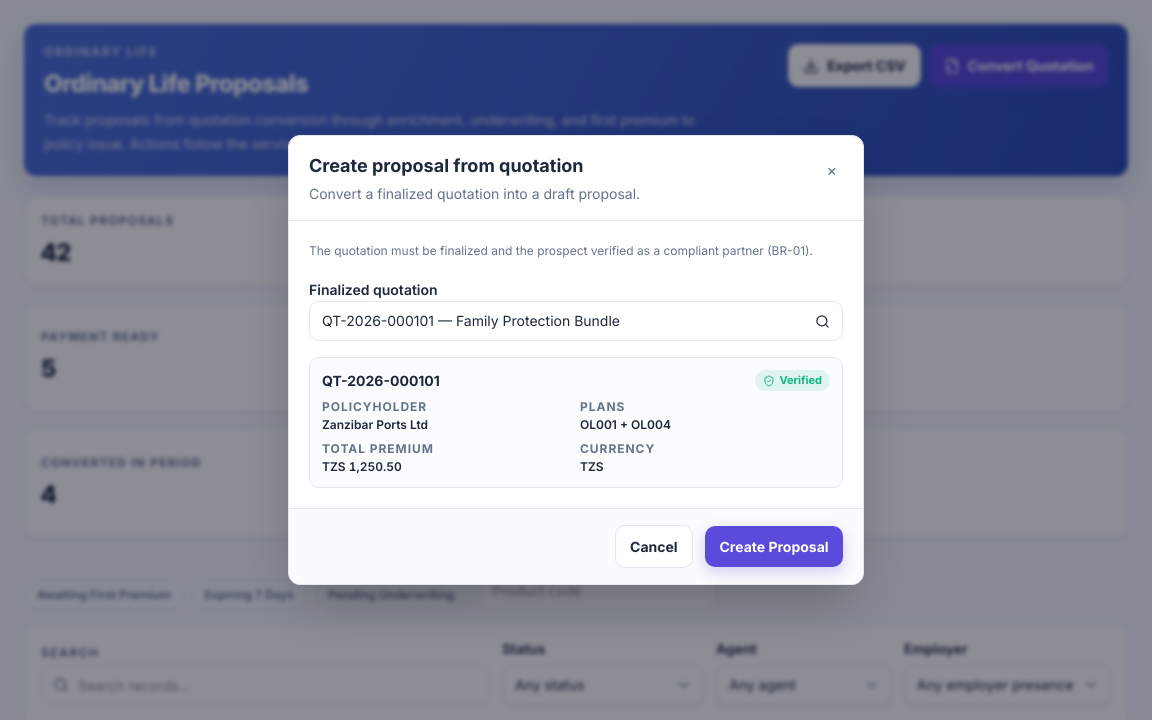
Test case: Convert quotation modal › renders the BR-01 coach with a deep link to the quotation partner verification
Earlier steps of the test are not shown.
Later steps or results of the test are not shown.
Click the button with test id "convert-quotation-submit".
click(774, 546)  # box 705,526 -> 843,567
(page scrolled)
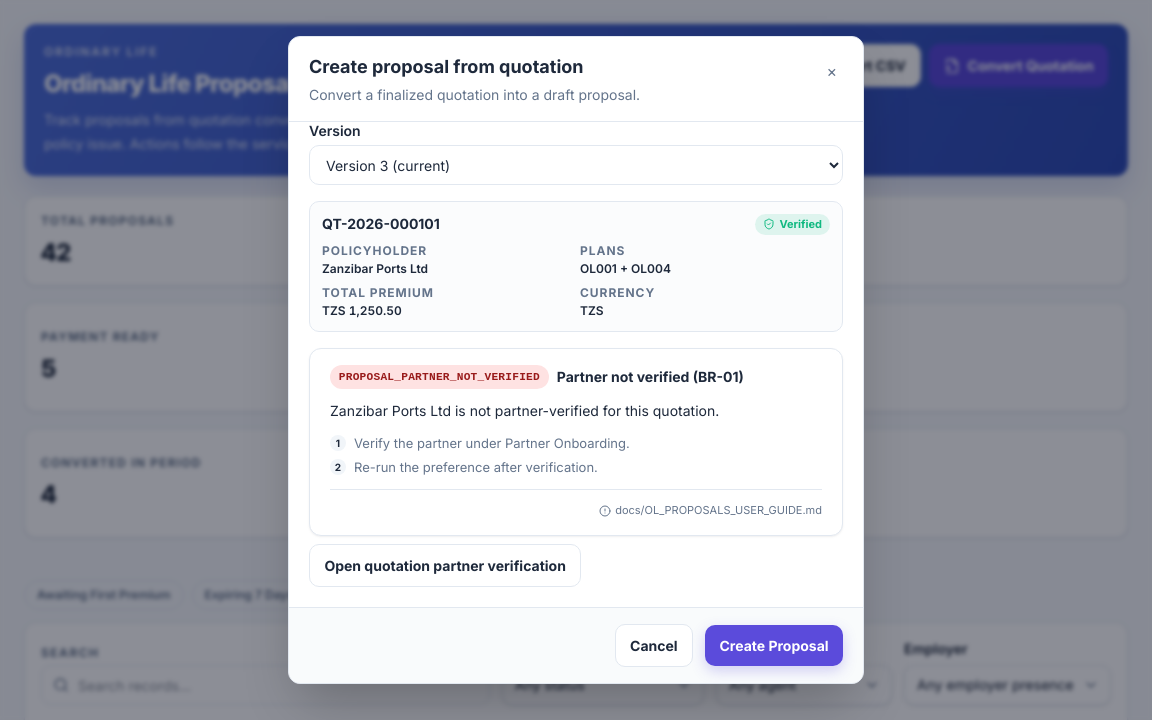
expect the text with test id "error-coach-code" reads "PROPOSAL_PARTNER_NOT_VERIFIED": met, box 339,370 -> 540,382
expect the text with test id "error-coach-message" shows "not partner-verified": met, box 330,402 -> 719,419
expect the list with test id "error-coach-steps" shows "Verify the partner under Partner Onboarding.": met, box 354,435 -> 630,451
